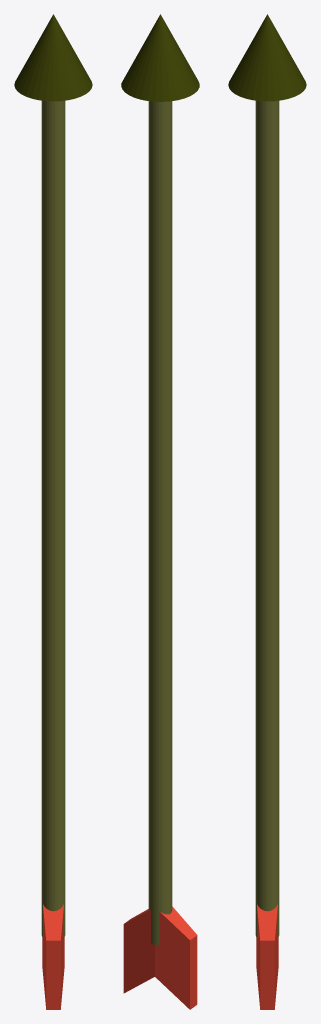
The model's file is Arrow.fbx.
3 renders of one model, left to right at view 1: azimuth 90°, elevation 25°; view 2: azimuth 150°, elevation 25°; view 3: azimuth 270°, elevation 25°, orthographic.
Parts seen in each view (by area): view 1: Arrow; view 2: Arrow; view 3: Arrow.
Part boxes in pixels (left/top/right/bottom): Arrow: left=14, top=14, right=92, bottom=1009; Arrow: left=121, top=14, right=199, bottom=1009; Arrow: left=228, top=14, right=306, bottom=1009.
Bounding box in the file's own units: 16.76 × 231 × 16.76.
